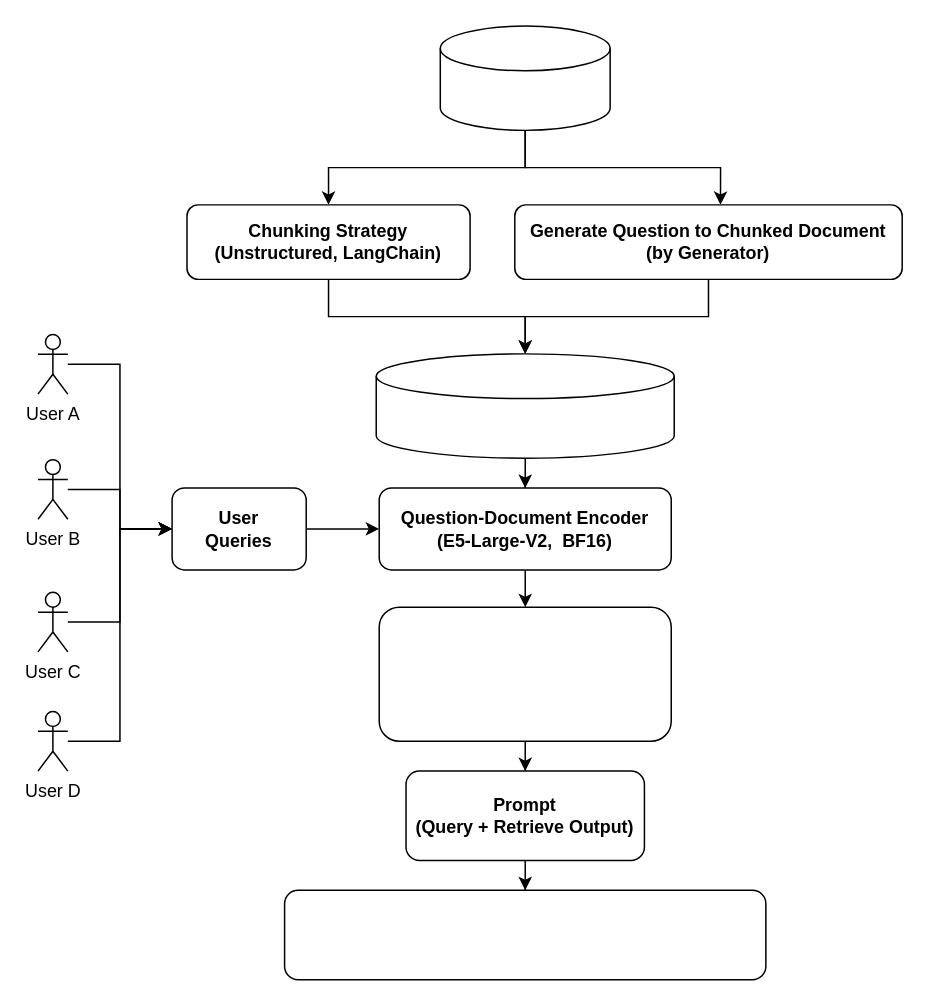
Image size: 928x1006. Some labels were removed from this diagram. The shapes that lost their labels are listed below. From the top down, each one's centre as x and y in pixels, then its label:
(524,77): Arxiv Paper DB
(524,405): Question-Document Pair Dataset
(524,673): Document Embedding DB (Elastic Search)
(524,934): Generator: Phi3.5-mini-instruct with AWQ, FP4 (vLLM Backend)
